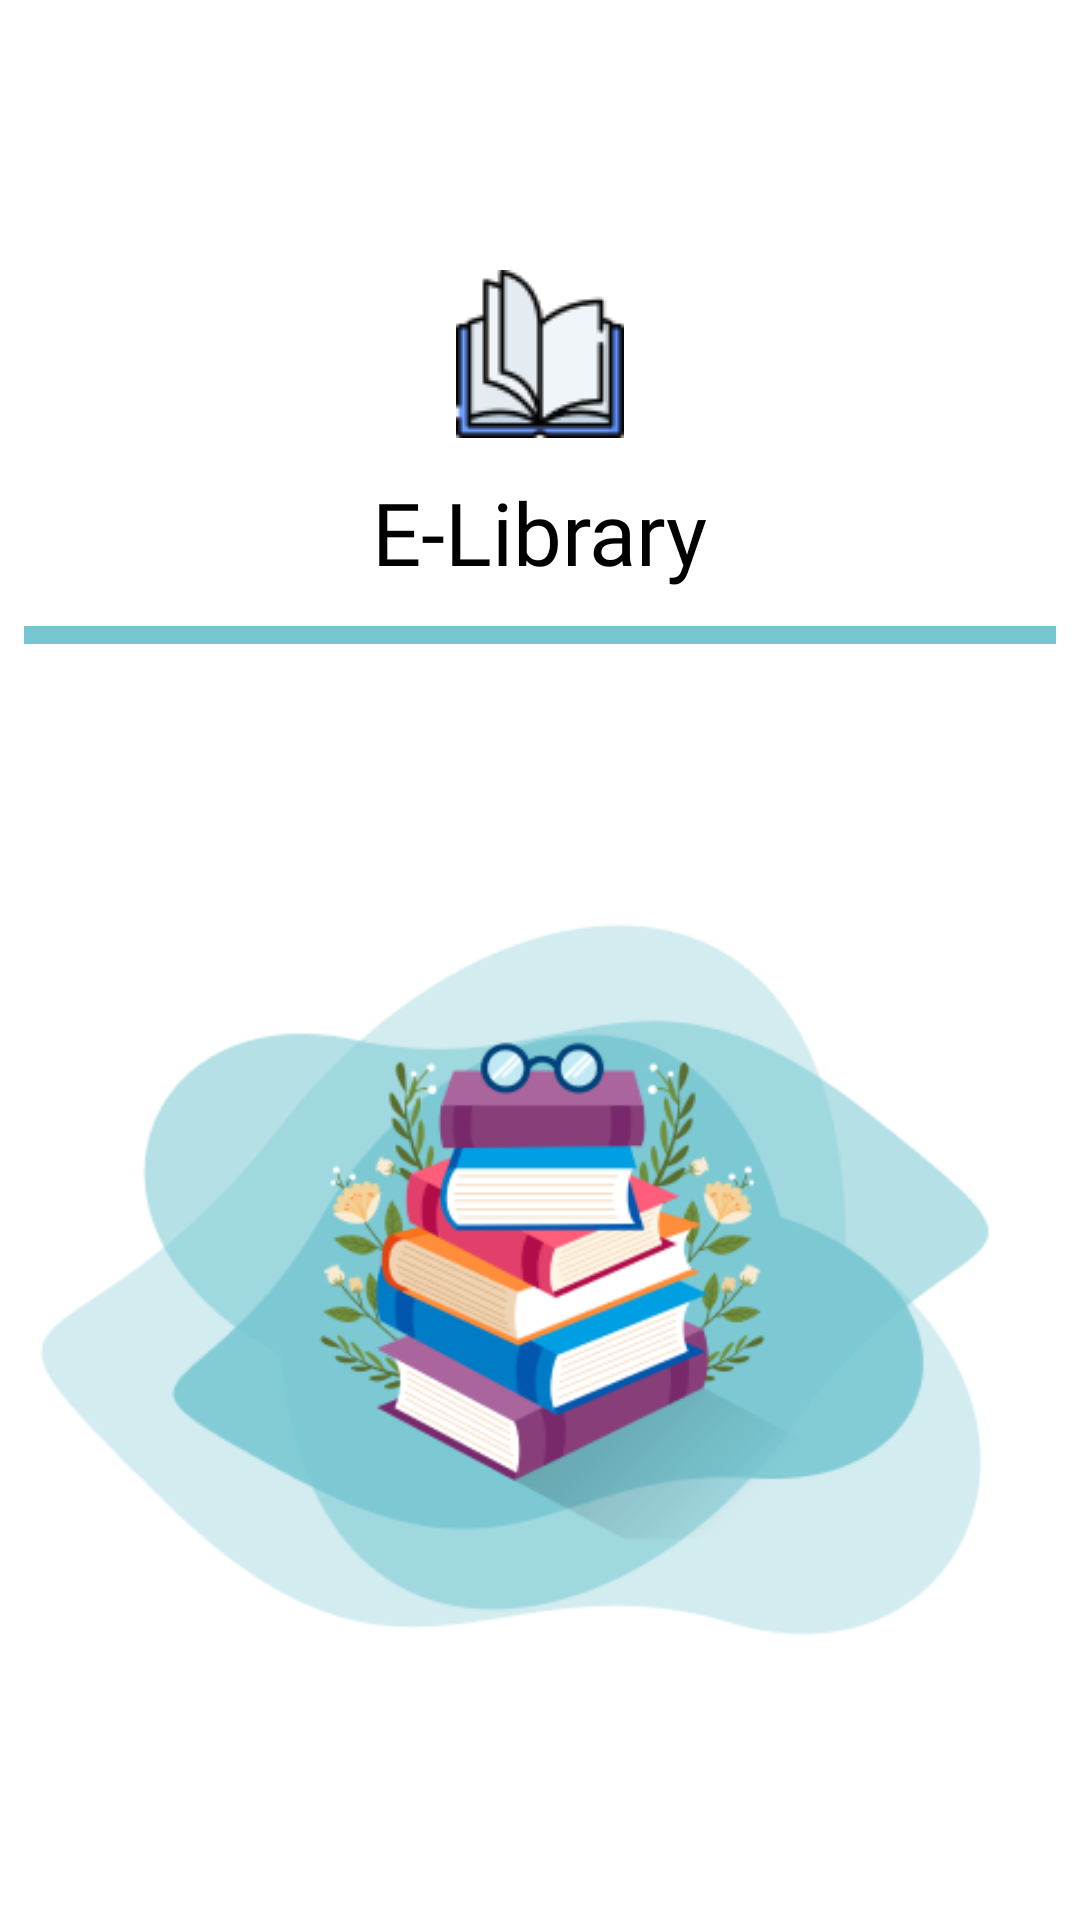

Icons on this 1080×1920 Android screen, each with its box as [left=x1, top=y1, right=x2, bottom=y2]:
book: [left=456, top=270, right=624, bottom=438]
